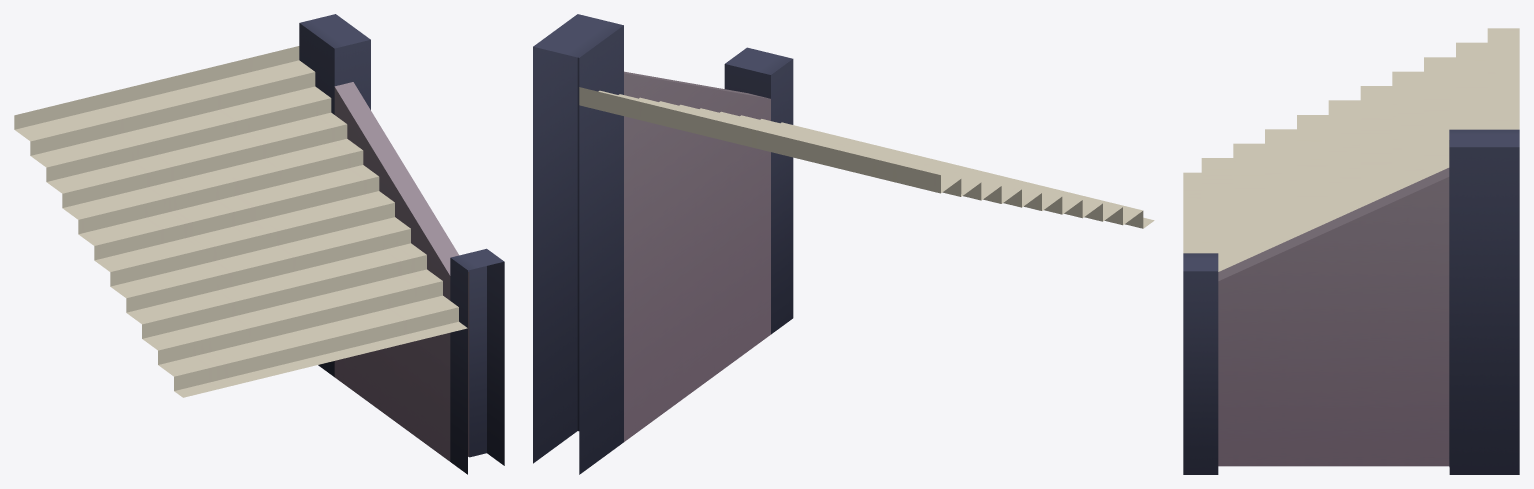
The model's file is rightLongStair2.fbx.
3 views of the same model, side by side, from view 1: azimuth 30°, elevation 25°; view 2: azimuth 150°, elevation 25°; view 3: azimuth 270°, elevation 25° (orthographic). The views are drawn at different scales.
Parts seen in each view (by area): view 1: Cube.058; view 2: Cube.058; view 3: Cube.058.
Boxes of the visible parts, x1,y1,x2,y2 form: Cube.058: (14, 14, 504, 474); Cube.058: (533, 14, 1154, 474); Cube.058: (1183, 28, 1519, 474).
Size of the model in its own units: 220 by 215 by 200.
